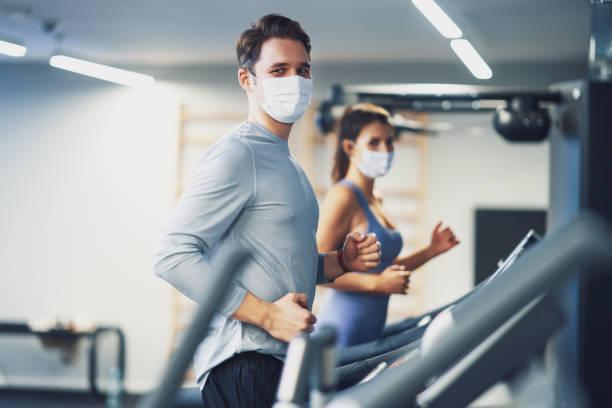with mask: (231, 26, 324, 125), (338, 108, 401, 181)
